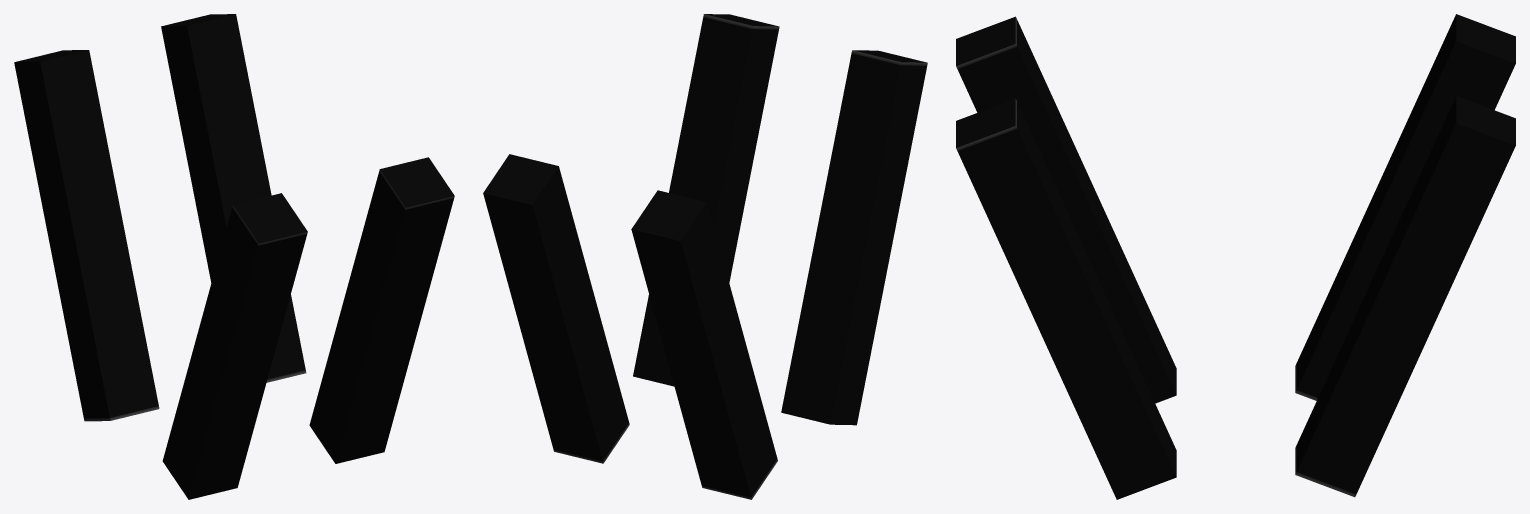
File: export_hv_fuse_closed.obj
The picture shows the model from 3 angles, left to right: view 1: azimuth 30°, elevation 25°; view 2: azimuth 150°, elevation 25°; view 3: azimuth 270°, elevation 25°; orthographic projection. The views are drawn at different scales.
Parts seen in each view (by area): view 1: fuse1, fuse2, fuse3, fuse4; view 2: fuse3, fuse4, fuse1, fuse2; view 3: fuse4, fuse2, fuse3, fuse1.
Boxes of the visible parts, x1=… form: fuse1: x1=14, y1=50, x2=159, y2=421; fuse2: x1=309, y1=157, x2=454, y2=463; fuse3: x1=162, y1=193, x2=307, y2=499; fuse4: x1=161, y1=14, x2=306, y2=382; fuse3: x1=781, y1=50, x2=927, y2=425; fuse4: x1=483, y1=154, x2=629, y2=463; fuse1: x1=631, y1=190, x2=777, y2=499; fuse2: x1=633, y1=14, x2=779, y2=386; fuse4: x1=1295, y1=96, x2=1515, y2=497; fuse2: x1=956, y1=98, x2=1176, y2=499; fuse3: x1=956, y1=16, x2=1176, y2=403; fuse1: x1=1295, y1=14, x2=1515, y2=400.
Bounding box in the file's own units: 1 × 1.61 × 2.17.
1 material, 1 textured.
